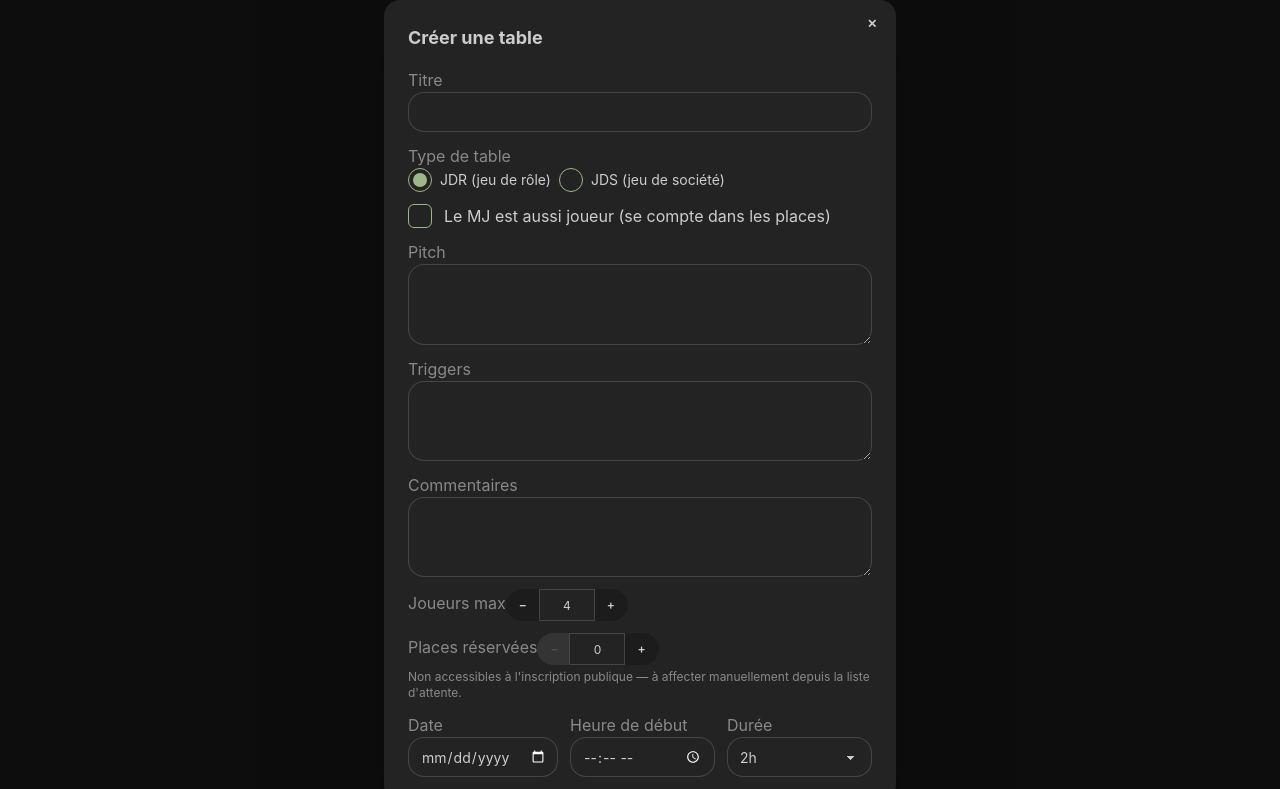
CreateTableModal › shows the GM-is-player checkbox only for JDR type
Check: the checkbox labelled "Le MJ est aussi joueur (se compte dans les places)" is shown, box [408,204,432,228]
// Switch to JDS
Click the radio button labelled "JDS (jeu de société)".
click(571, 180)  # box [559,168,583,192]
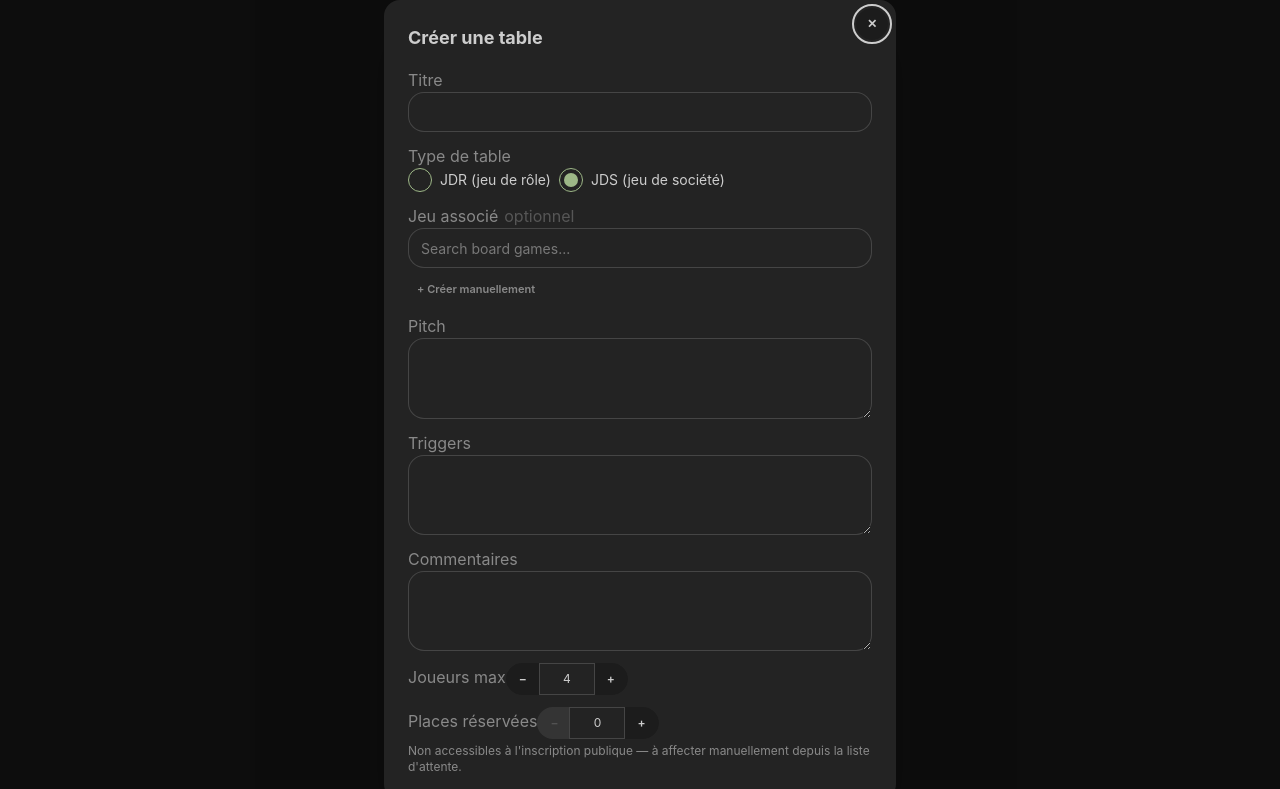
Check: the text labelled "MJ est aussi joueur" is gone
